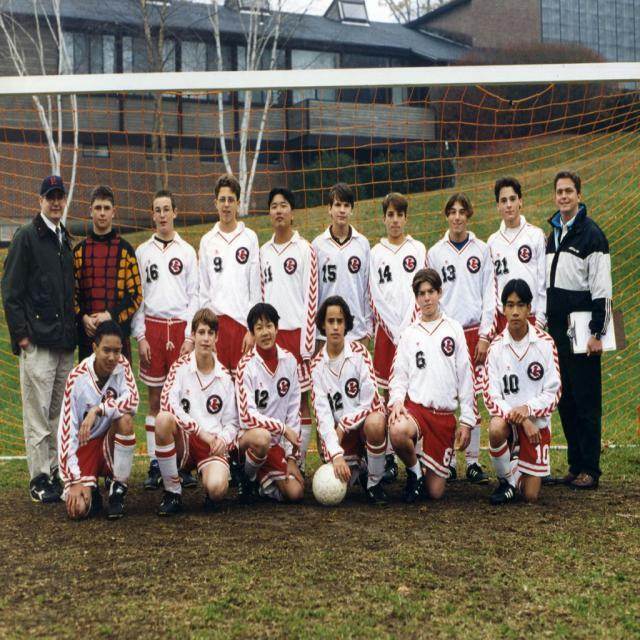football: (310, 447, 356, 512)
